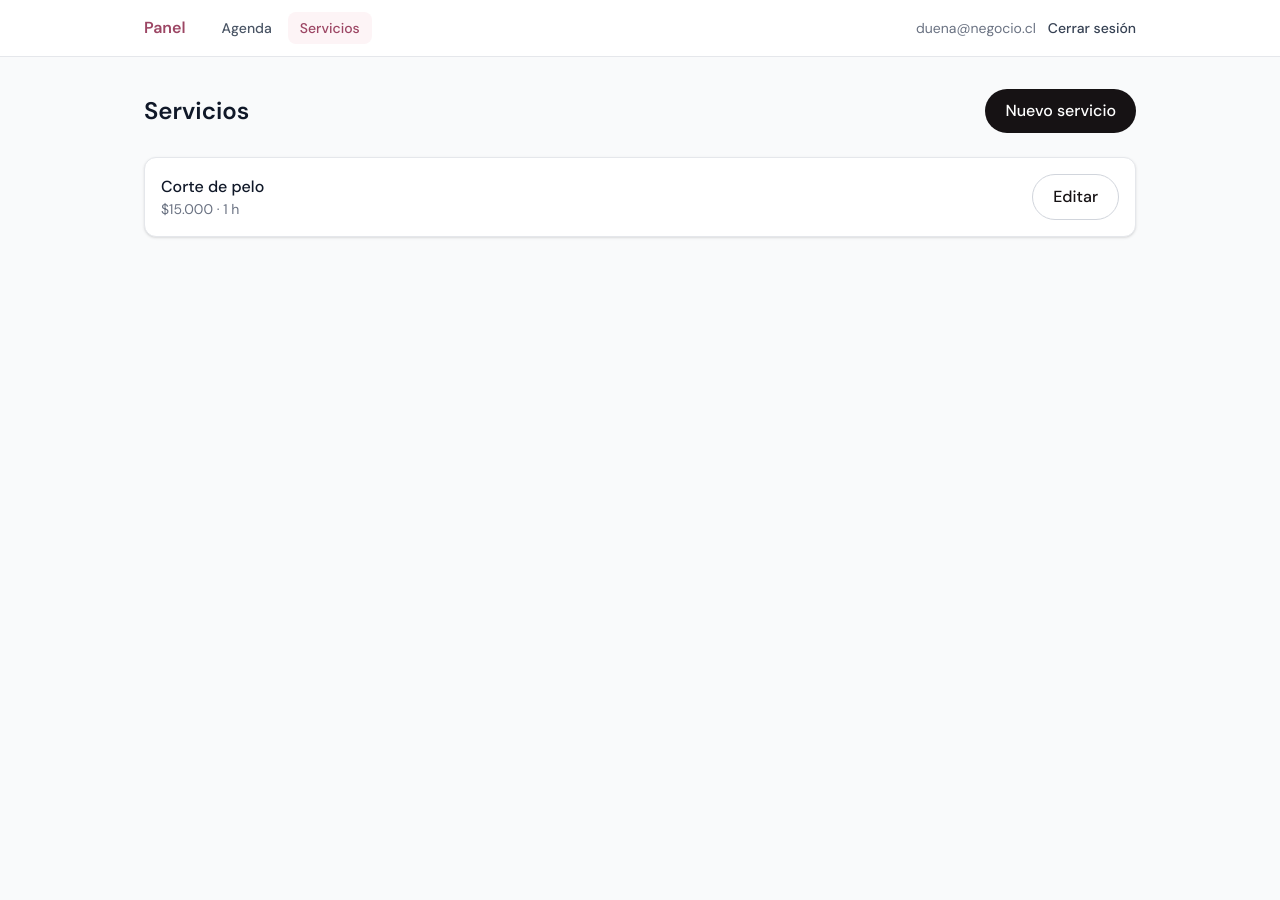
Test: Servicios del panel › crea un servicio nuevo
Click the button "Nuevo servicio" at point(1061, 111), box [985, 89, 1136, 133]
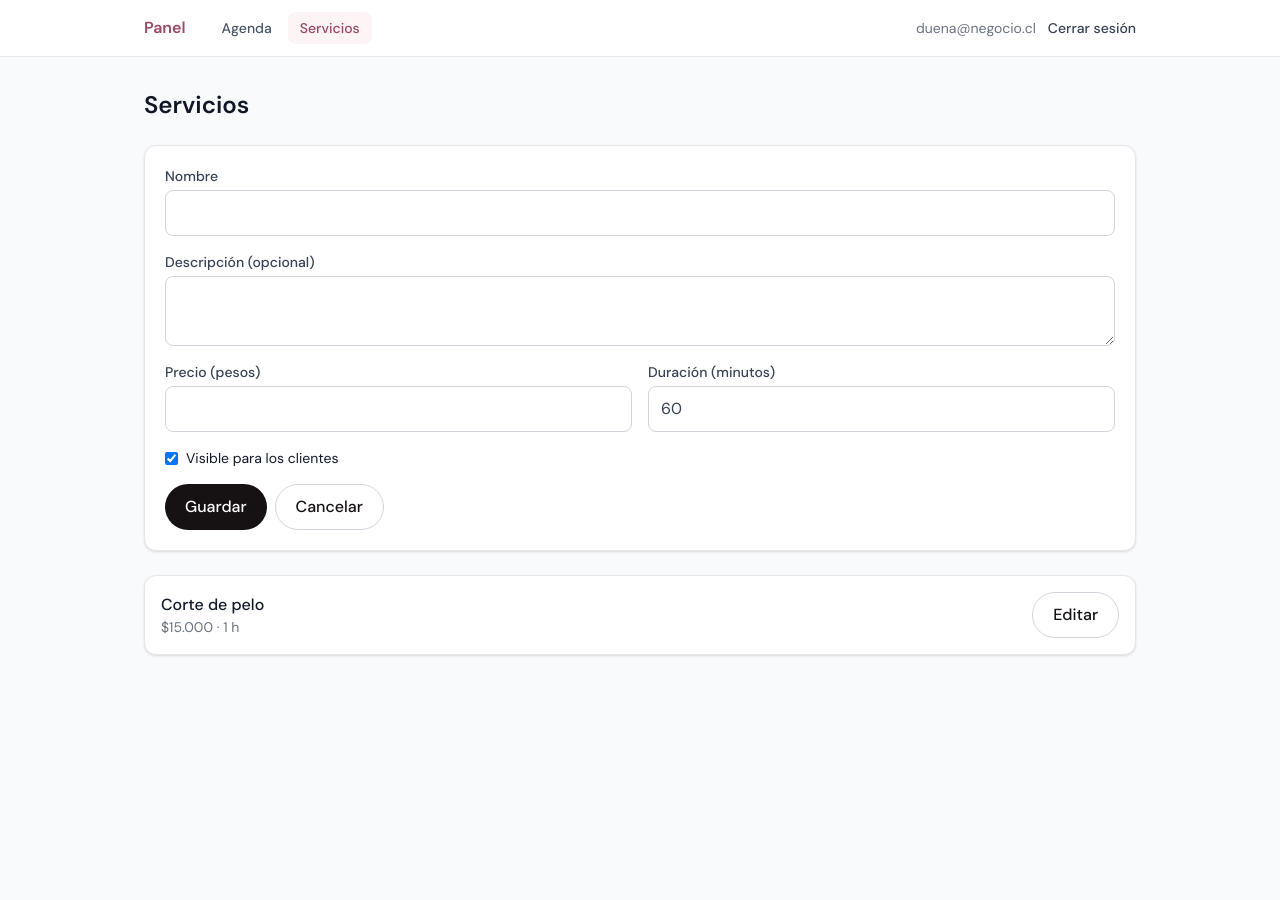
Type "Manicure" into the field labelled "Nombre" at point(640, 213), box [165, 190, 1115, 236]
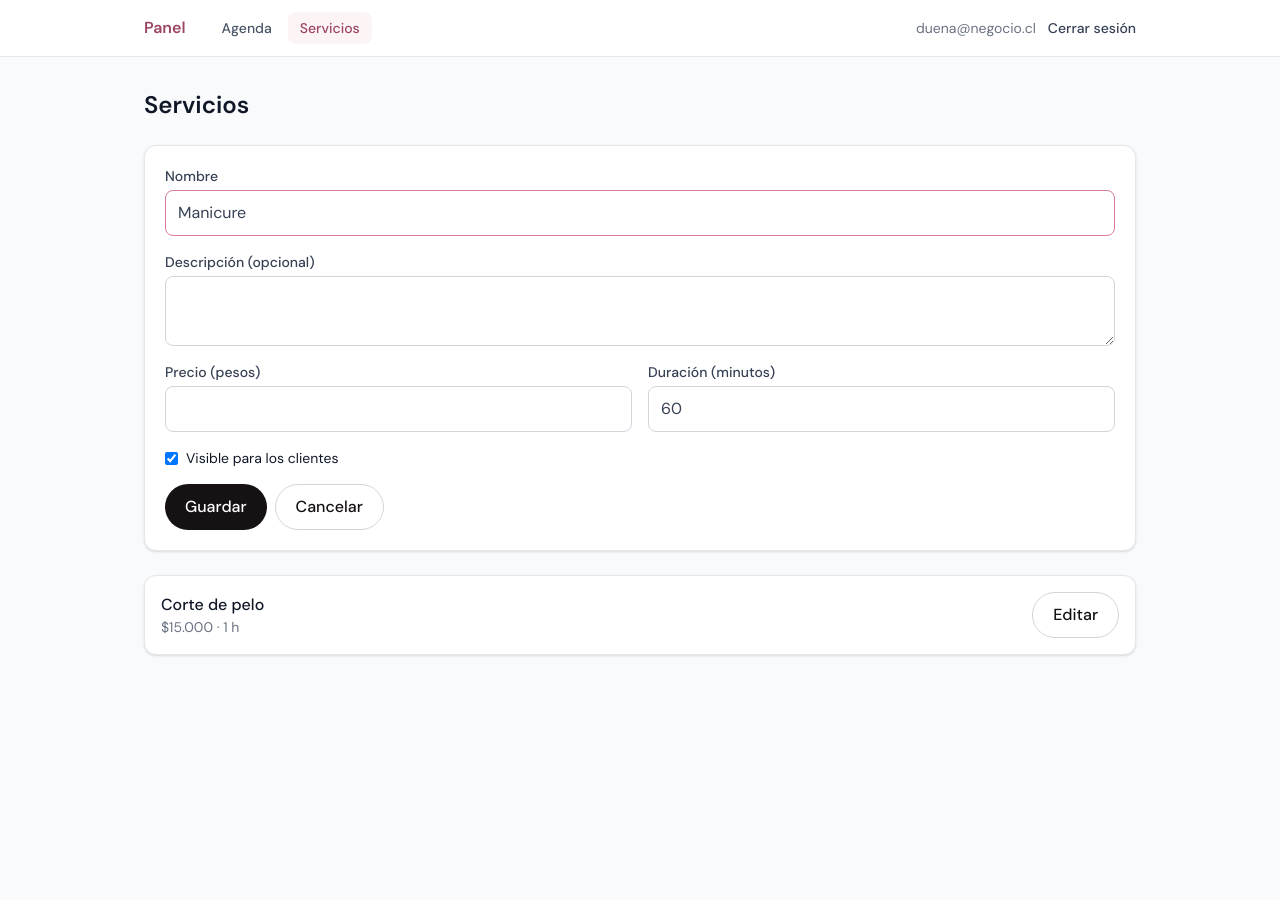
Type "12000" into the number field labelled "Precio (pesos)" at point(398, 409), box [165, 386, 632, 432]
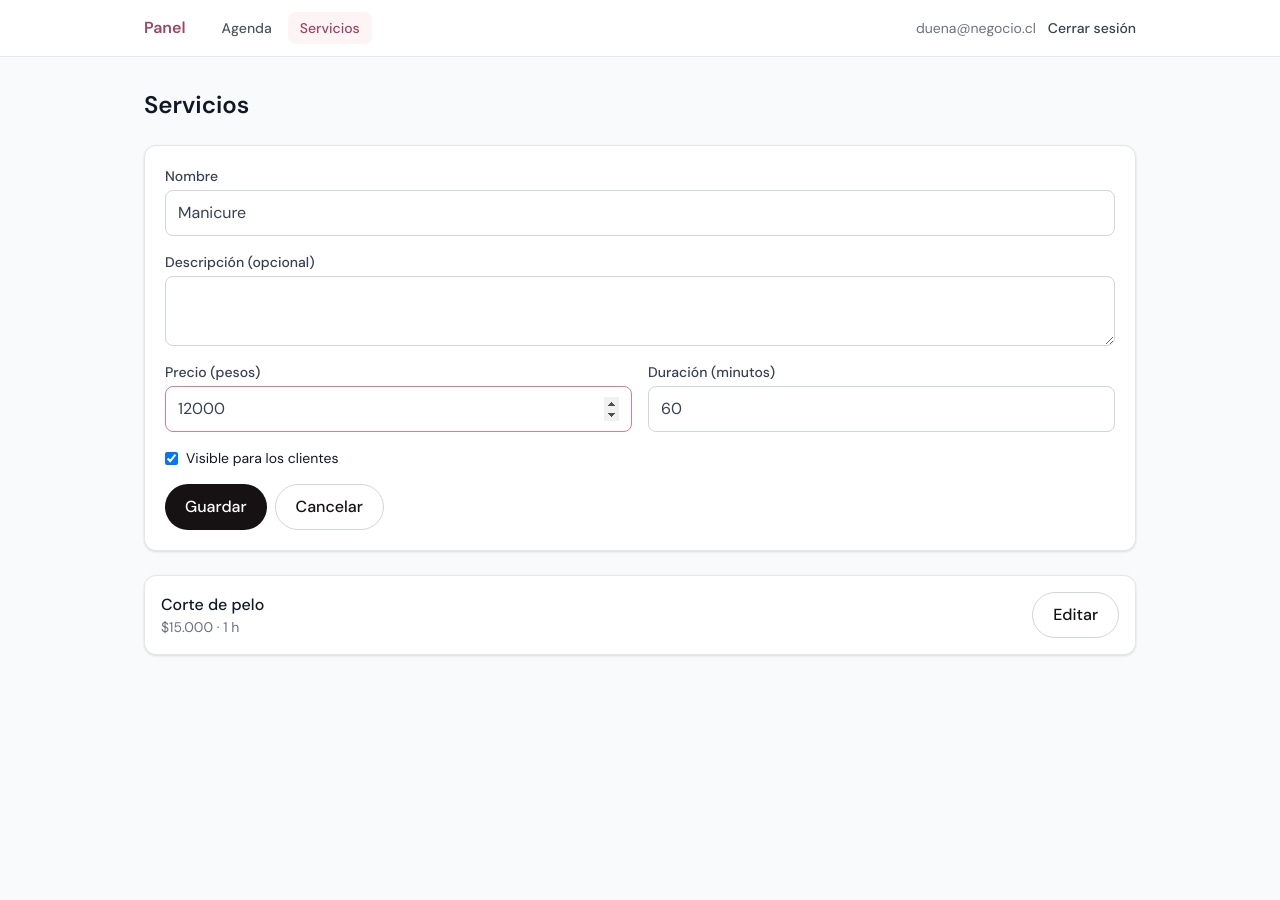
Replace the text in the number field labelled "Duración (minutos)" with "45" at point(882, 409), box [648, 386, 1115, 432]
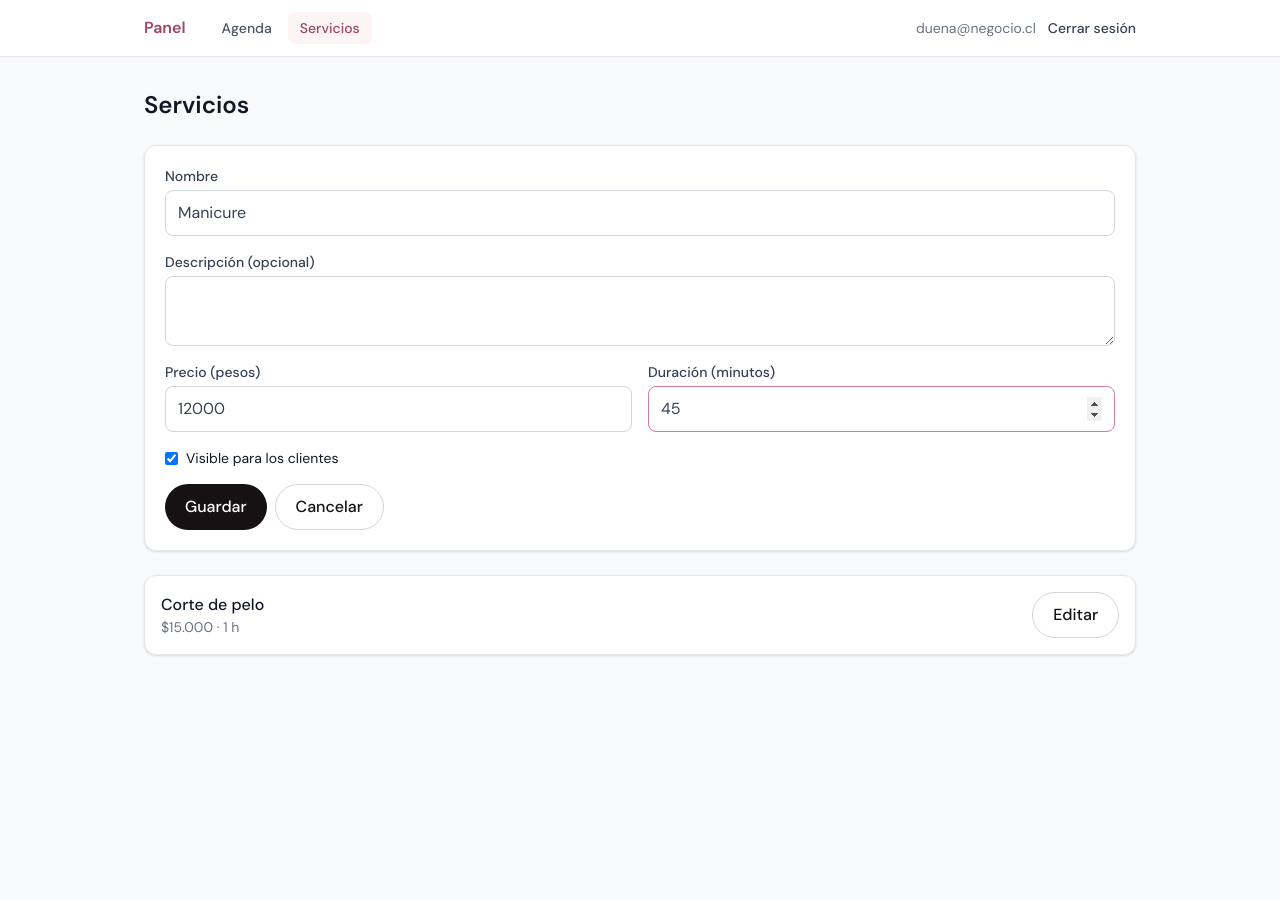
Double-click the button "Guardar" at point(216, 507), box [165, 484, 267, 530]
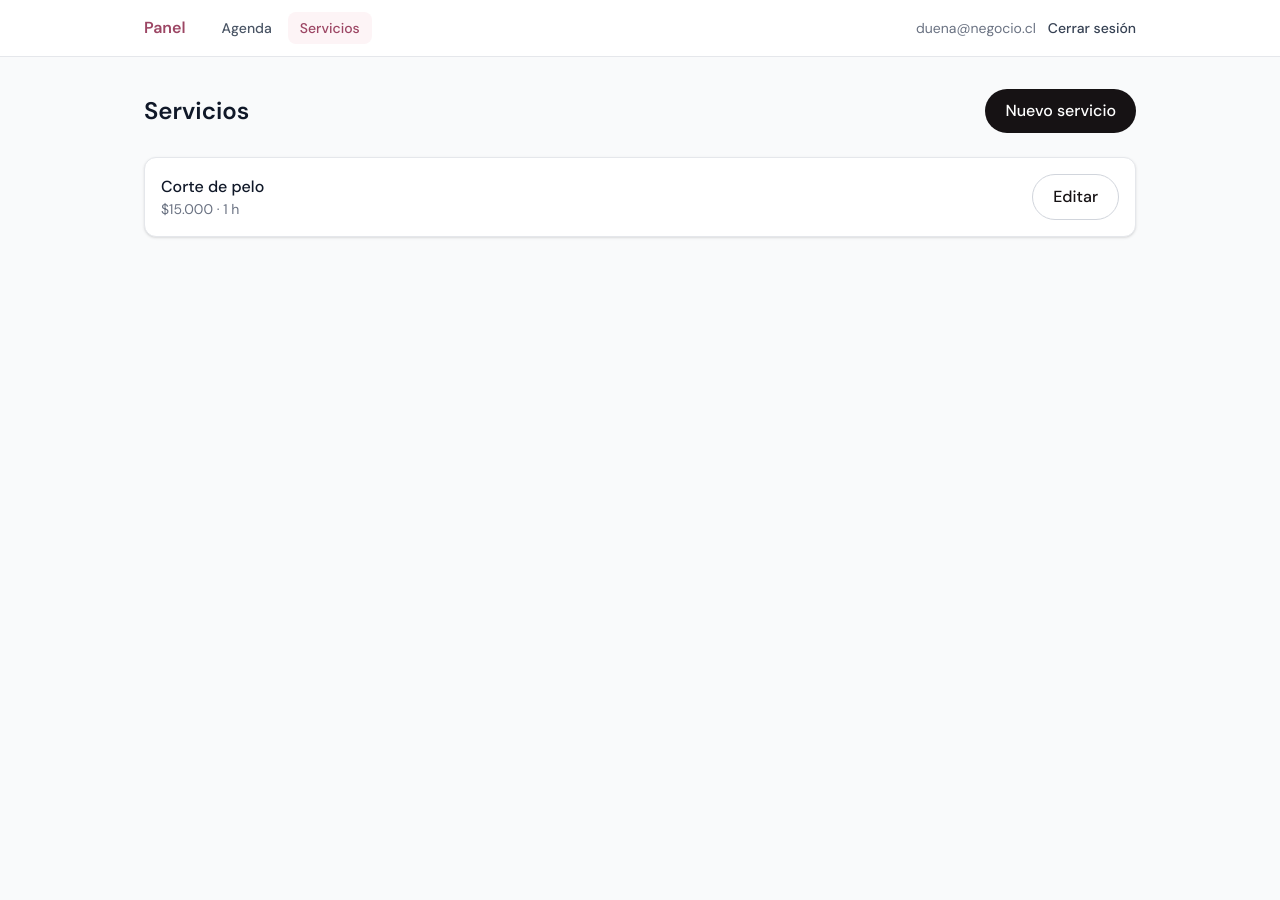
Check: the button "Guardar" is gone
